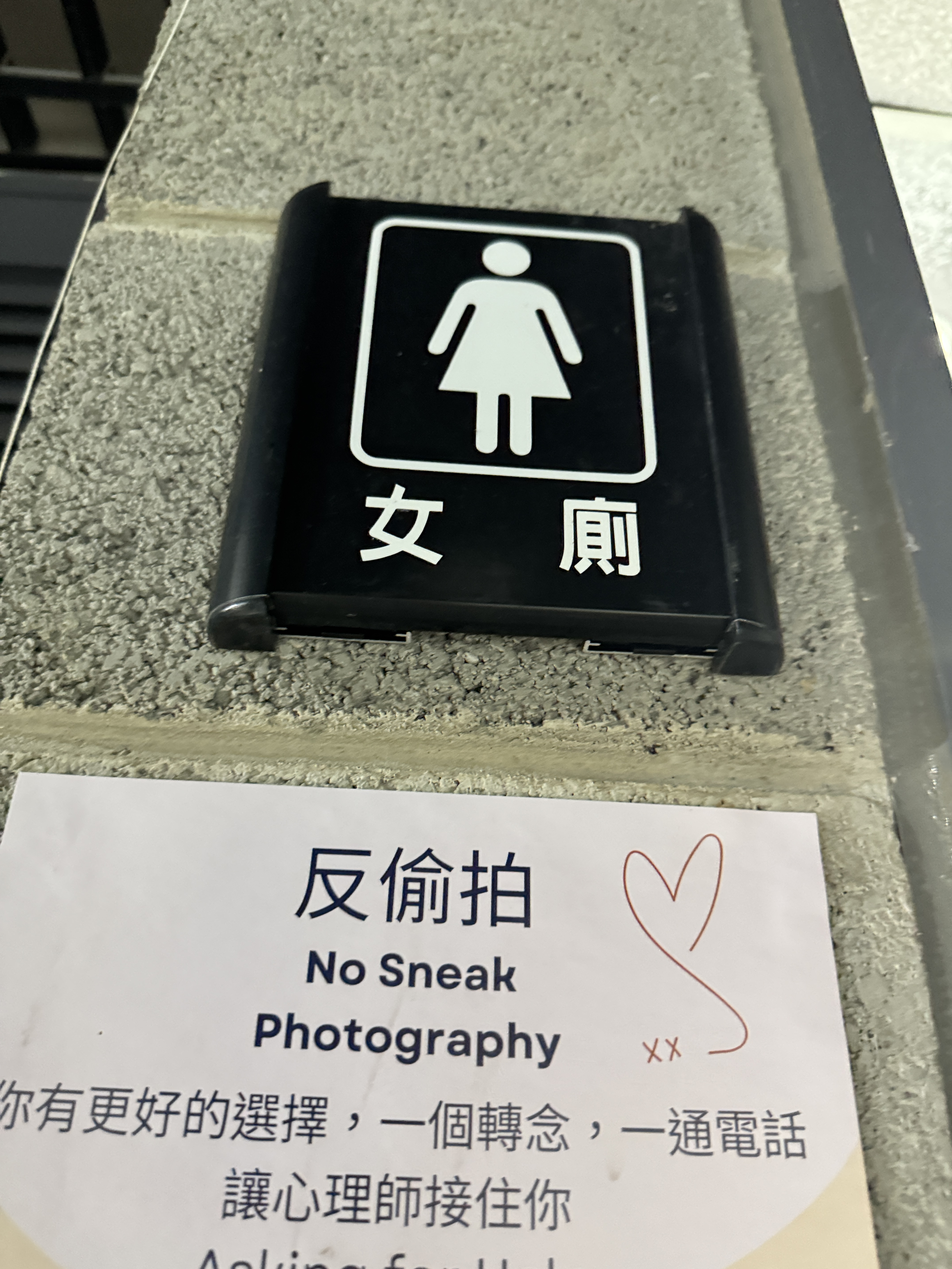toilet_sign: (191, 155, 802, 680), (212, 175, 787, 655)
